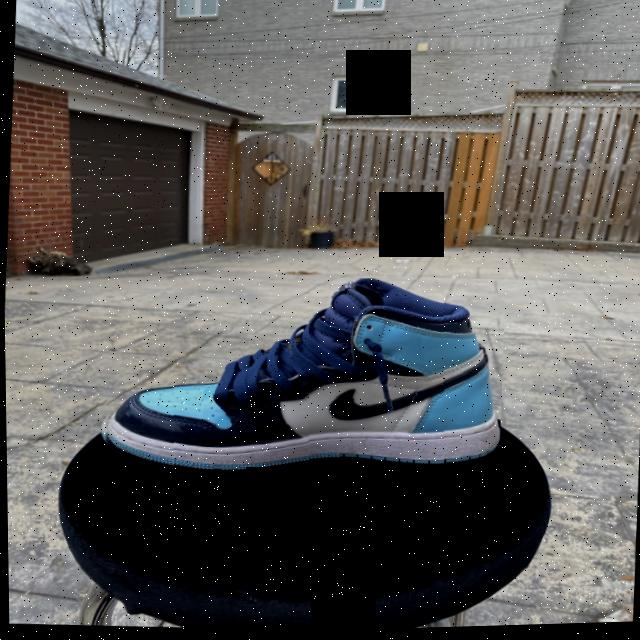shoe: (95, 264, 507, 494)
